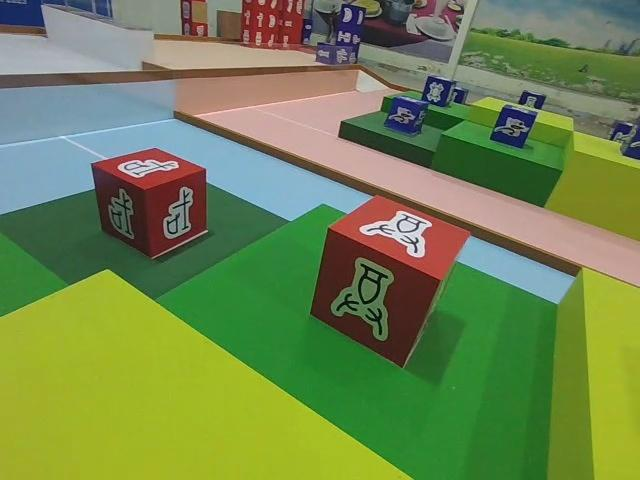R2 Real: (309, 195, 471, 372), (92, 144, 213, 262)
